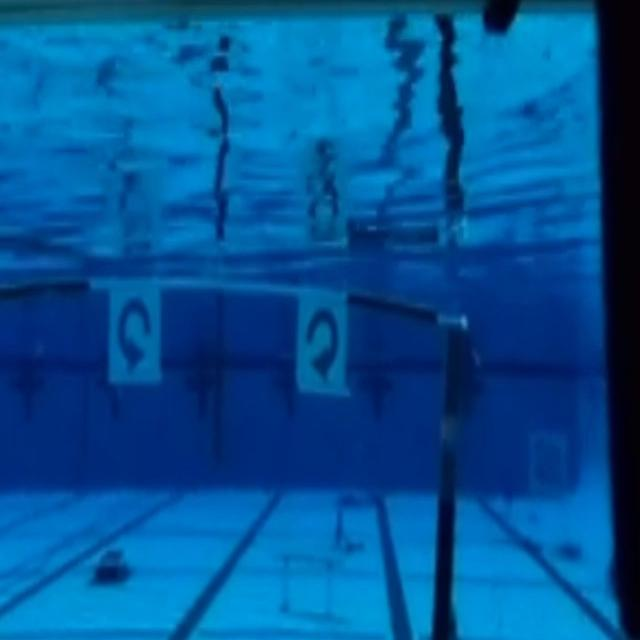Gate: (3, 266, 458, 640)
